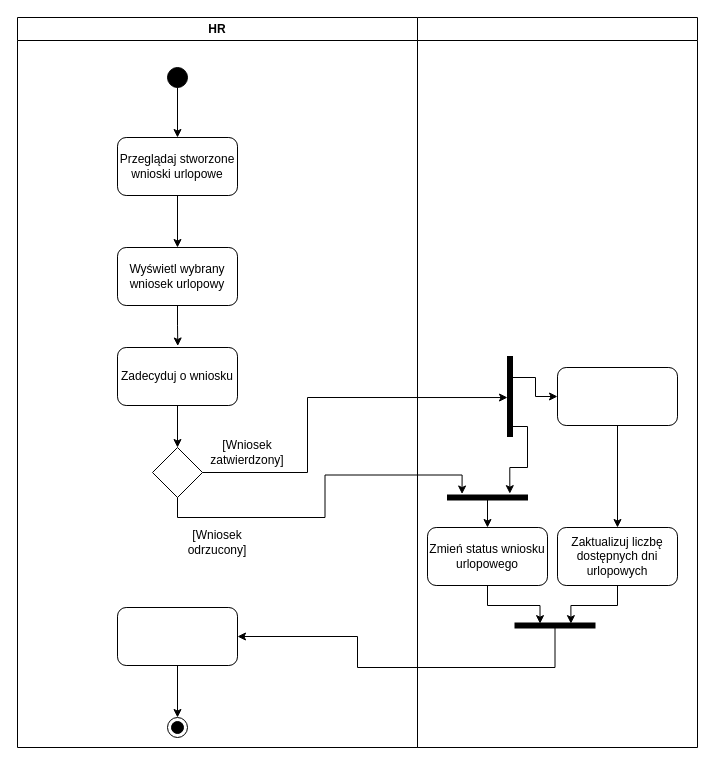
Image size: 715x765. Some labels were removed from this diagram. Here are the shapes that lost their labels. From the top down, the box of each, then its label:
(416, 16, 698, 748): Podsystem urlopowy
(556, 366, 678, 426): Dodaj urlop do bazy danych
(116, 606, 238, 666): Wyświetl zmieniony status urlopu
